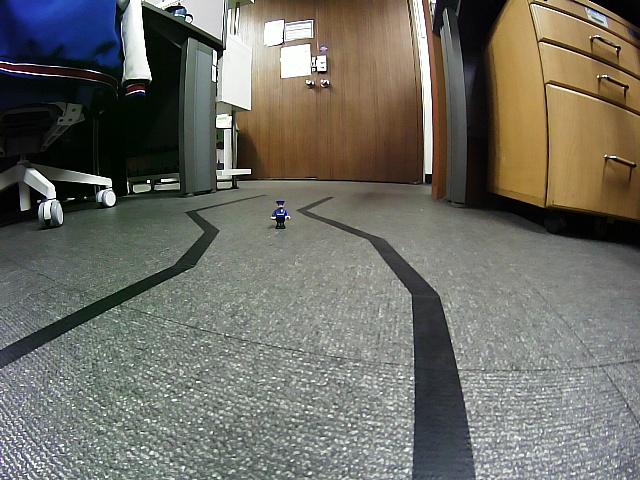person: (271, 200, 291, 229)
